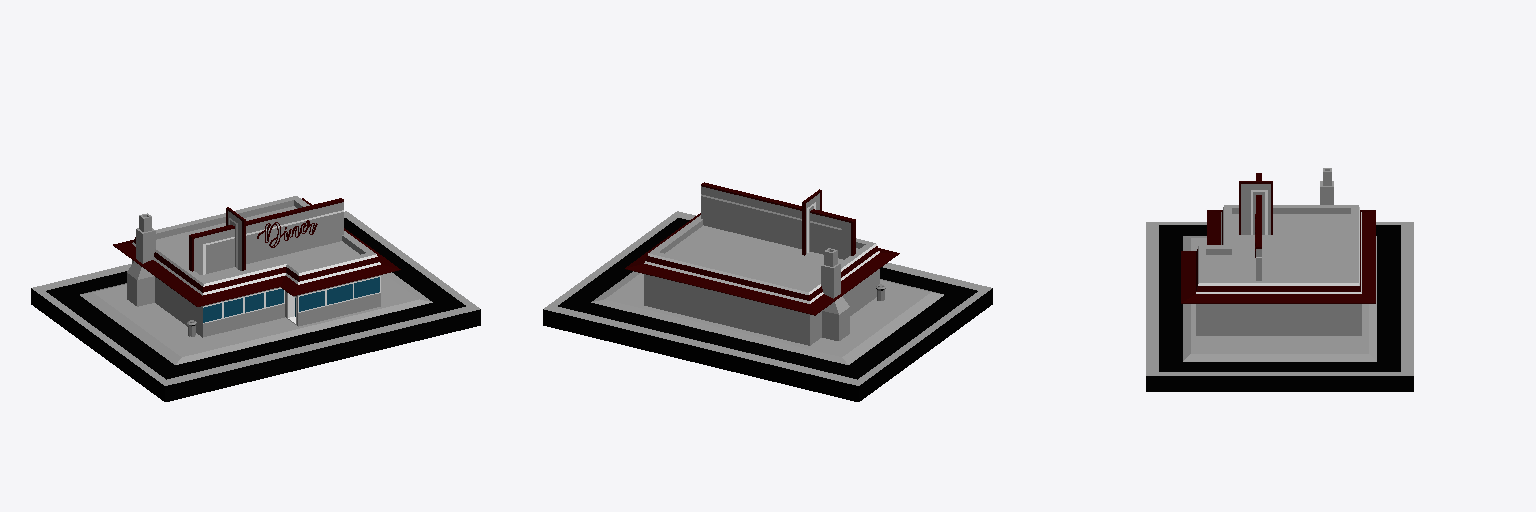
File: Diner_1264.obj
The picture shows the model from 3 angles: view 1: azimuth 30°, elevation 25°; view 2: azimuth 150°, elevation 25°; view 3: azimuth 270°, elevation 25°; orthographic projection.
Parts seen in each view (by area): view 1: Box001, Box002; view 2: Box001, Box002; view 3: Box001, Box002.
Boxes of the visible parts, x1,y1,x2,y2 form: Box001: [31, 211, 480, 401]; Box002: [113, 196, 400, 337]; Box001: [543, 211, 992, 401]; Box002: [625, 182, 899, 345]; Box001: [1146, 222, 1413, 391]; Box002: [1181, 168, 1375, 335].
Size of the model in its own units: 301 by 107 by 221.